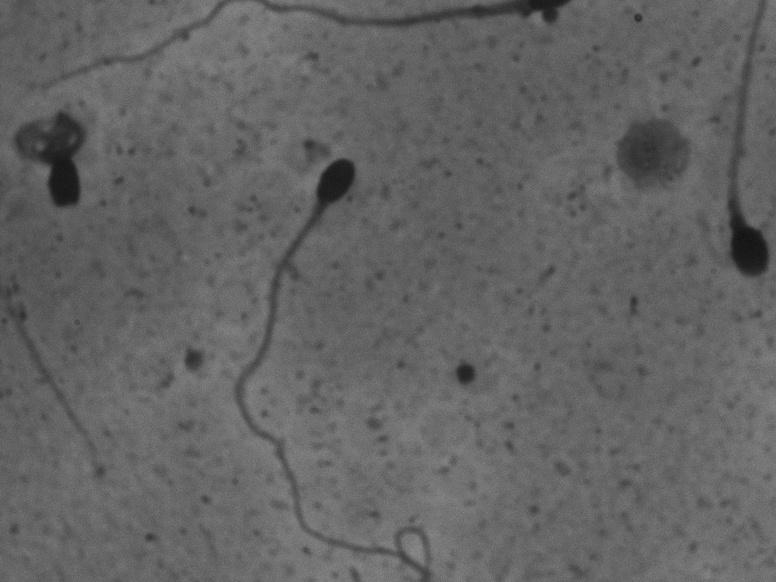Abnormal: (206, 132, 402, 565), (6, 93, 109, 230)
